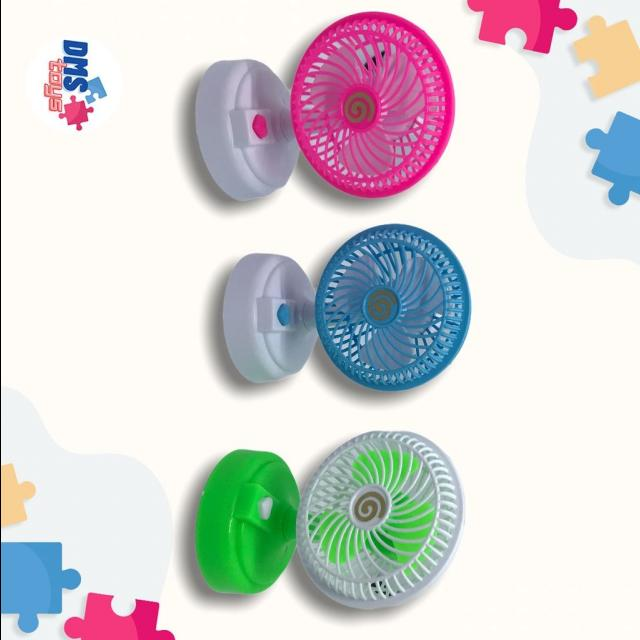fan: (174, 5, 475, 621)
